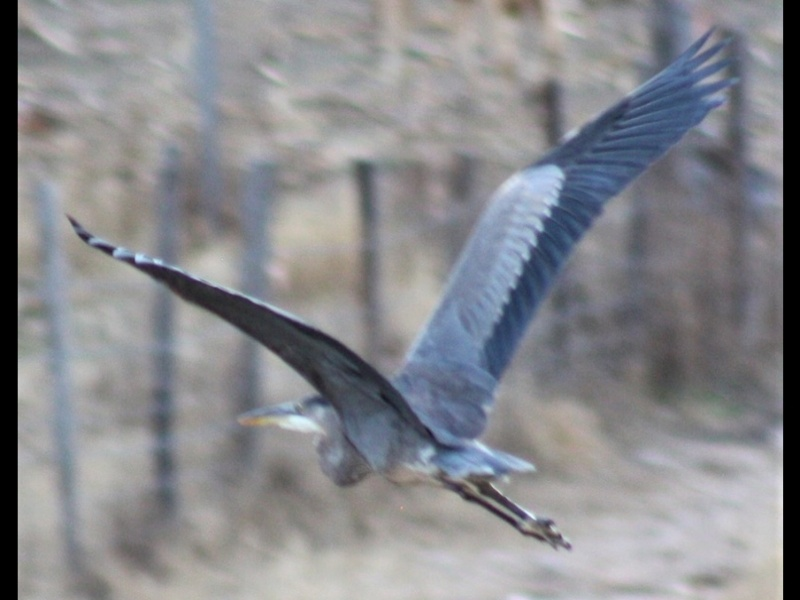heron: (62, 23, 735, 550)
